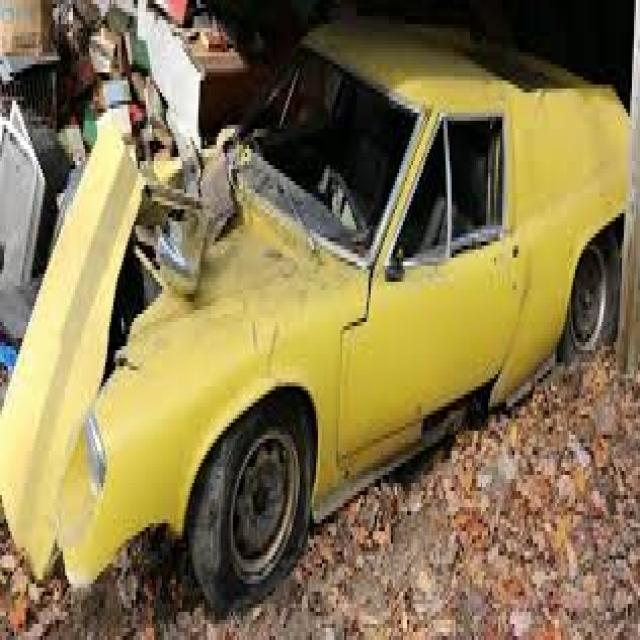severe: (23, 114, 272, 567)
